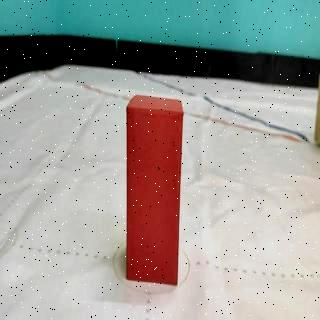redbox: (125, 93, 185, 286)
